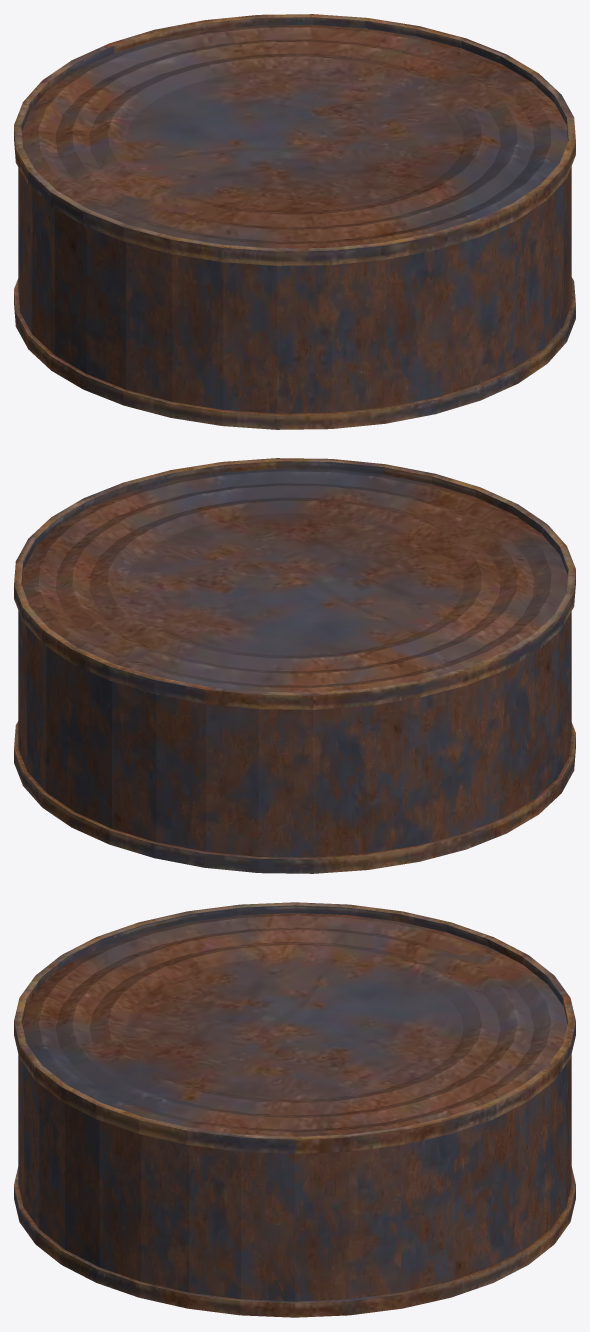
File: s_latas2.glb
3 views of the same model, one above another, from view 1: azimuth 30°, elevation 25°; view 2: azimuth 150°, elevation 25°; view 3: azimuth 270°, elevation 25° (orthographic).
Parts seen in each view (by area): view 1: defaultMaterial; view 2: defaultMaterial; view 3: defaultMaterial.
Boxes of the visible parts, left/top/right/bottom form: defaultMaterial: left=14, top=14, right=575, bottom=429; defaultMaterial: left=14, top=458, right=575, bottom=873; defaultMaterial: left=14, top=902, right=575, bottom=1317.
Size of the model in its own units: 0.1 by 0.0349 by 0.1.
2 materials, 2 textured.
